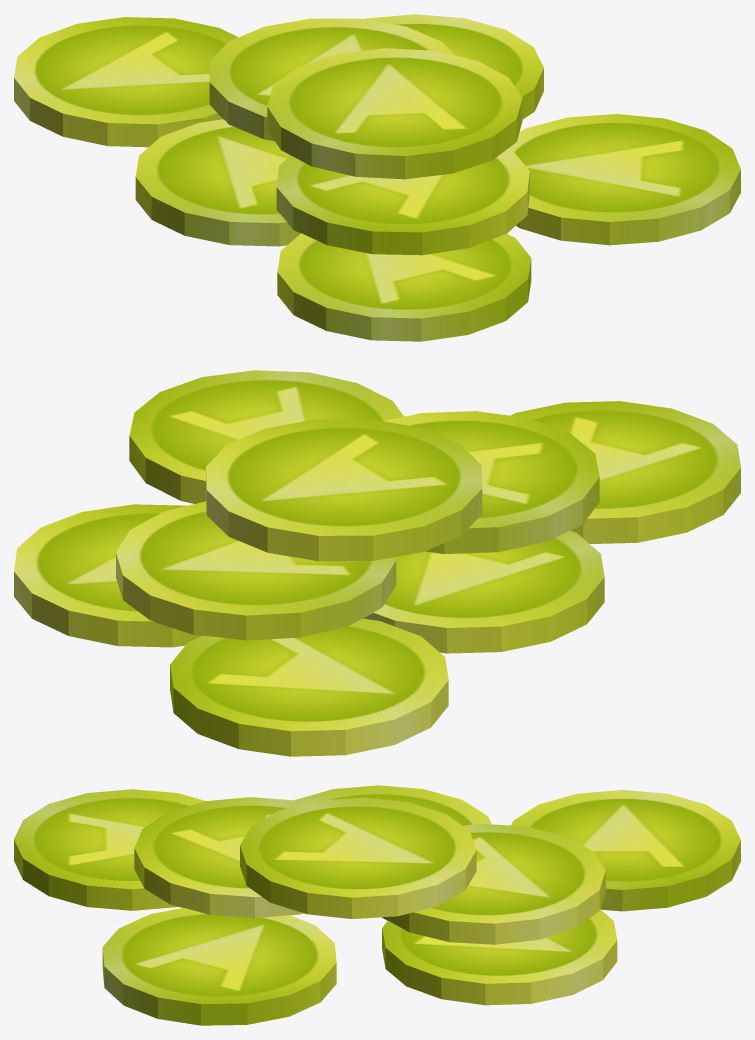
The model's file is AskariCoins.fbx.
The picture shows the model from 3 angles, top to bottom: view 1: azimuth 30°, elevation 25°; view 2: azimuth 150°, elevation 25°; view 3: azimuth 270°, elevation 25°; orthographic projection. The views are drawn at different scales.
Parts seen in each view (by area): view 1: AskariCoins; view 2: AskariCoins; view 3: AskariCoins.
Boxes of the visible parts, x1,y1,x2,y2 form: AskariCoins: [14, 14, 740, 341]; AskariCoins: [14, 370, 740, 756]; AskariCoins: [14, 785, 740, 1025].
Size of the model in its own units: 17.79 by 2.42 by 24.97.
